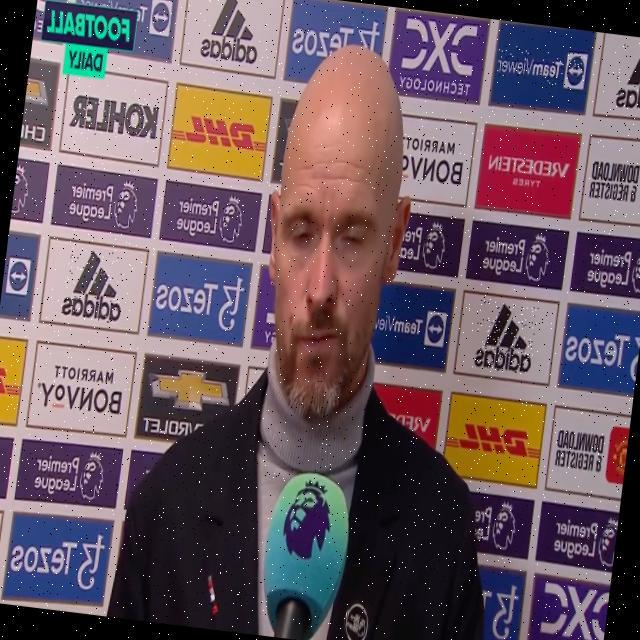Adidas: (61, 247, 127, 324), (472, 299, 539, 374), (198, 0, 265, 66), (613, 39, 640, 112)
Chevrolet: (141, 361, 233, 446)
Kohler: (70, 92, 161, 142)
TeamViewer: (494, 44, 586, 89)
